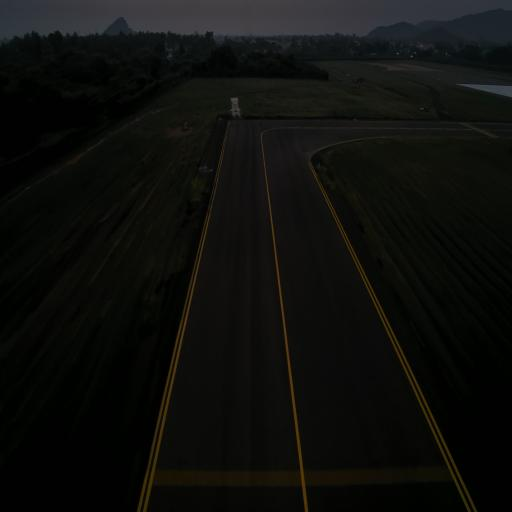on: (203, 161, 207, 168), (318, 160, 321, 166)
